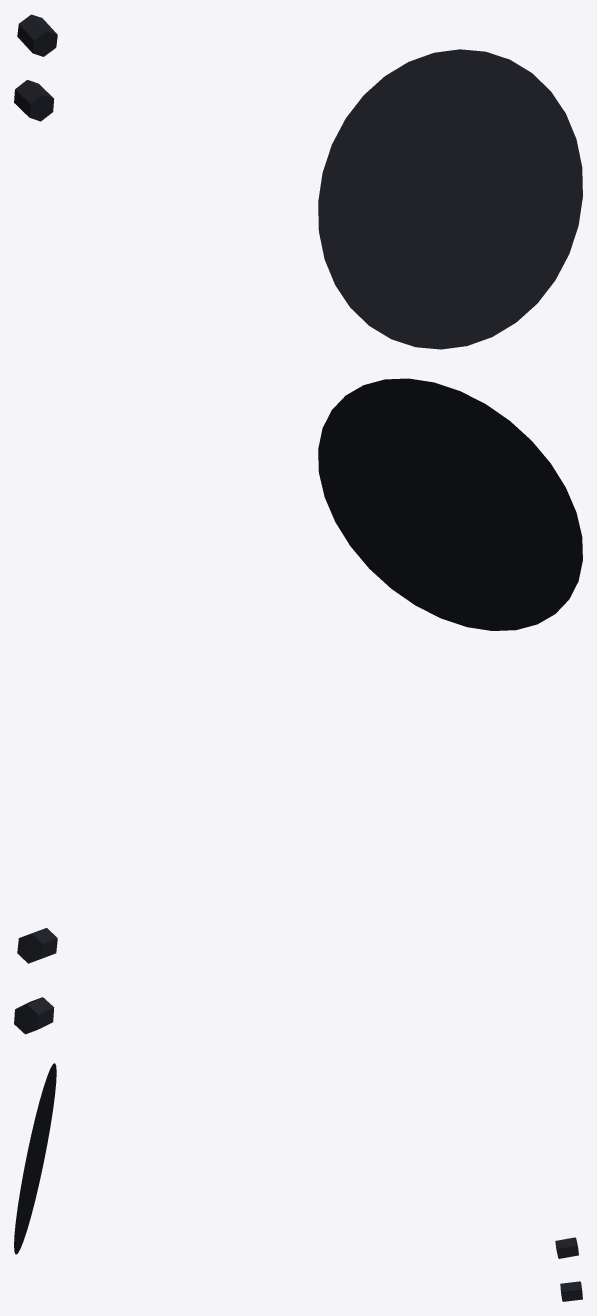
Rendered from rocket_black.fbx.
3 views of the same model, one above another, from view 1: azimuth 30°, elevation 25°; view 2: azimuth 150°, elevation 25°; view 3: azimuth 270°, elevation 25° (orthographic). The views are drawn at different scales.
Visible parts, largest first — view 1: 円柱.003; view 2: 円柱.003; view 3: 円柱.003.
Boxes of the visible parts, x1,y1,x2,y2 form: 円柱.003: [14, 14, 582, 349]; 円柱.003: [14, 378, 582, 1034]; 円柱.003: [14, 1063, 582, 1301].
Size of the model in its own units: 67.75 by 87.64 by 197.
Materials: 2 (2 with a texture image).
